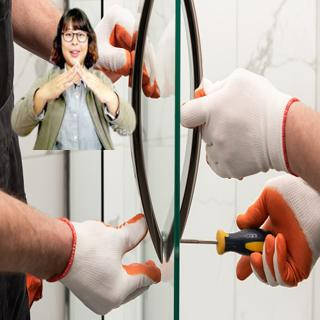HOME: (40, 63, 112, 104)
